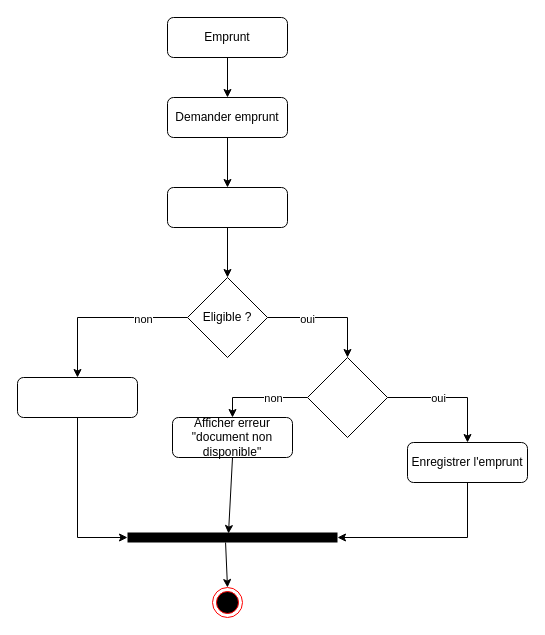
This 545x635 diagram has some shape labels left out. Each missing label, with the centre of its shape:
Afficher erreur "non éligible": (x=77, y=397)
Empruntable ?: (x=347, y=397)
Examiner abonné: (x=227, y=207)
